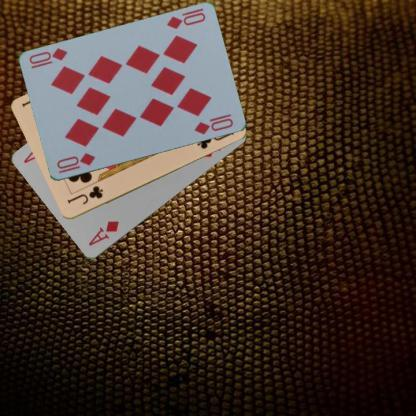10d: (53, 150, 97, 175), (164, 10, 207, 30)
Ad: (86, 218, 120, 248)
Jc: (64, 183, 105, 206)
